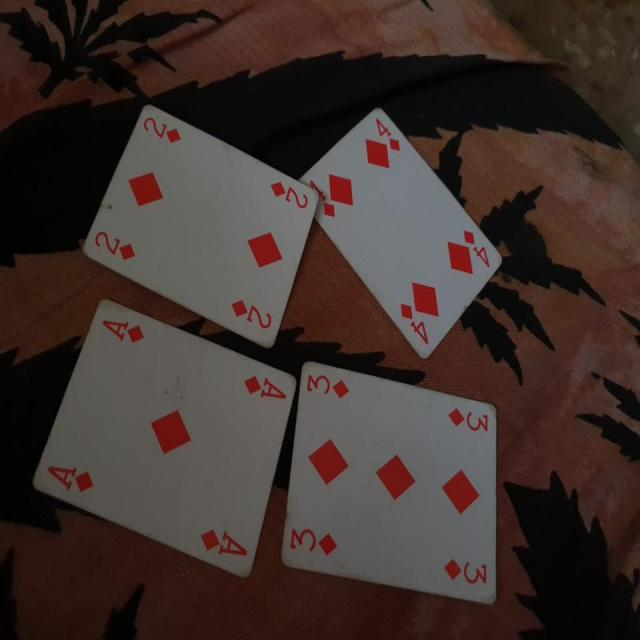2 Diamonds: (82, 102, 320, 355)
3 Diamonds: (282, 358, 505, 606)
4 Diamonds: (297, 100, 503, 361)
A Diamonds: (30, 285, 303, 578)
